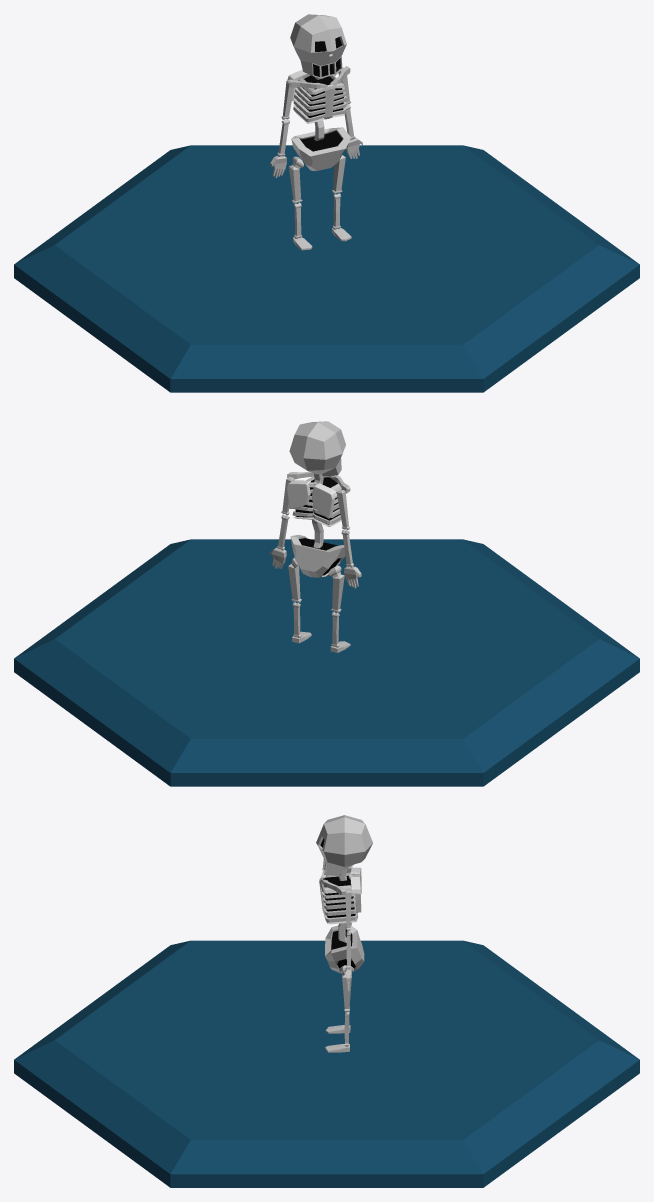
File: Small_Figure.fbx
3 views of the same model, one above another, from view 1: azimuth 30°, elevation 25°; view 2: azimuth 150°, elevation 25°; view 3: azimuth 270°, elevation 25° (orthographic).
Visible parts, largest first — view 1: Base, Skull, Ribs, Waist; view 2: Base, Skull, Waist, Shoulder, Ribs; view 3: Base, Skull, Ribs, Waist.
Boxes of the visible parts, <box> form: Base: <box>14,145,639,392</box>; Skull: <box>290,14,346,78</box>; Ribs: <box>293,74,346,123</box>; Waist: <box>291,127,350,170</box>; Base: <box>14,539,639,786</box>; Skull: <box>289,421,345,476</box>; Waist: <box>290,534,345,577</box>; Shoulder: <box>286,480,336,518</box>; Ribs: <box>292,476,341,526</box>; Base: <box>14,940,639,1187</box>; Skull: <box>316,815,372,876</box>; Ribs: <box>319,872,357,924</box>; Waist: <box>325,925,364,973</box>.
Bounding box in the file's own units: 483 × 252 × 558.
